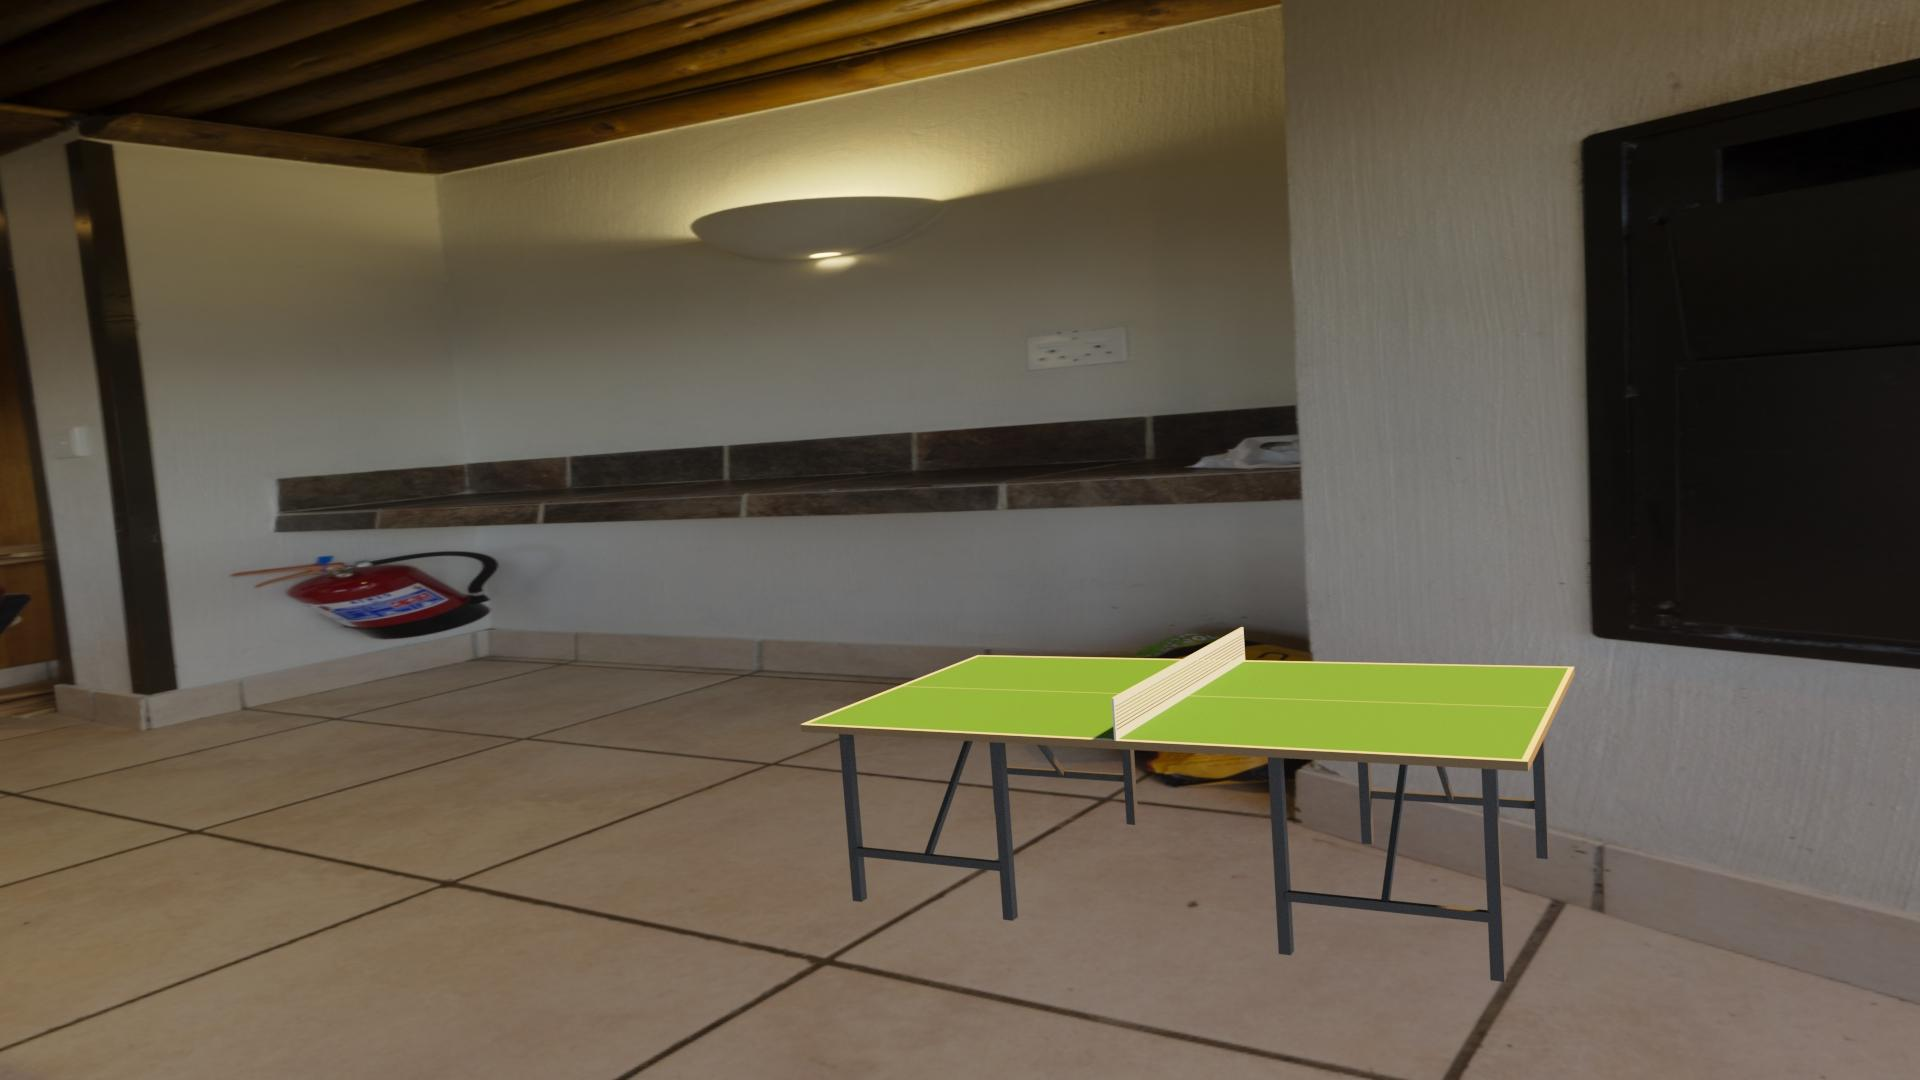table: (807, 657, 1568, 760)
